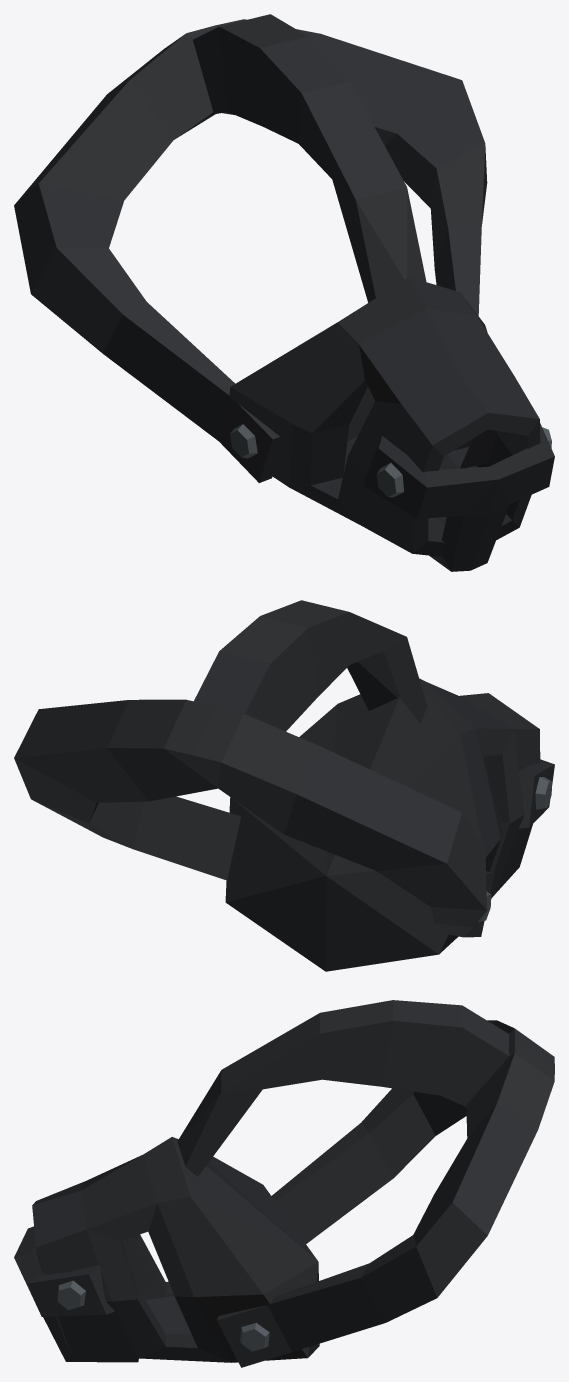
File: SM_Chr_Attach_Head_Muzzle_Large_01.fbx
3 views of the same model, one above another, from view 1: azimuth 30°, elevation 25°; view 2: azimuth 150°, elevation 25°; view 3: azimuth 270°, elevation 25° (orthographic). The views are drawn at different scales.
Visible parts, largest first — view 1: SM_Chr_Attach_Head_Muzzle_Large_01; view 2: SM_Chr_Attach_Head_Muzzle_Large_01; view 3: SM_Chr_Attach_Head_Muzzle_Large_01.
Part boxes in pixels (x1,y1,x2,y2): SM_Chr_Attach_Head_Muzzle_Large_01: (14, 14, 554, 571); SM_Chr_Attach_Head_Muzzle_Large_01: (14, 600, 554, 971); SM_Chr_Attach_Head_Muzzle_Large_01: (14, 1000, 554, 1367).
Bounding box in the file's own units: 30.32 × 24.95 × 35.27.
